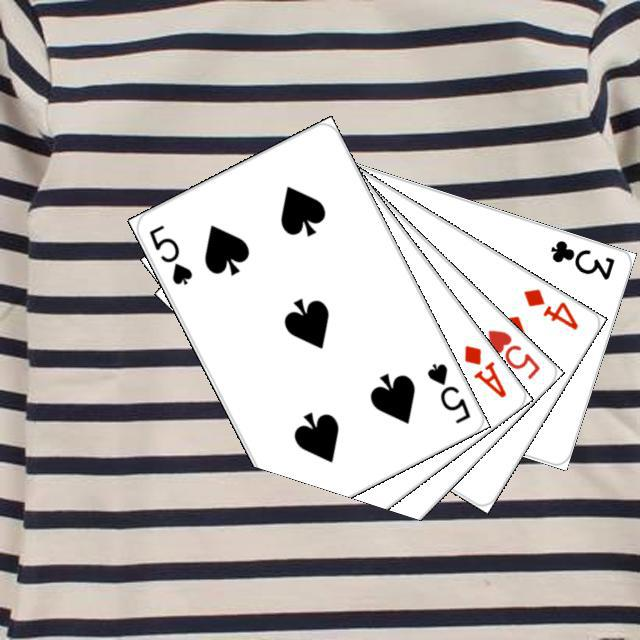3c: (545, 235, 616, 282)
4d: (518, 283, 580, 332)
5h: (482, 324, 542, 381)
5s: (143, 219, 194, 287), (422, 358, 472, 426)
Ad: (458, 340, 509, 400)
